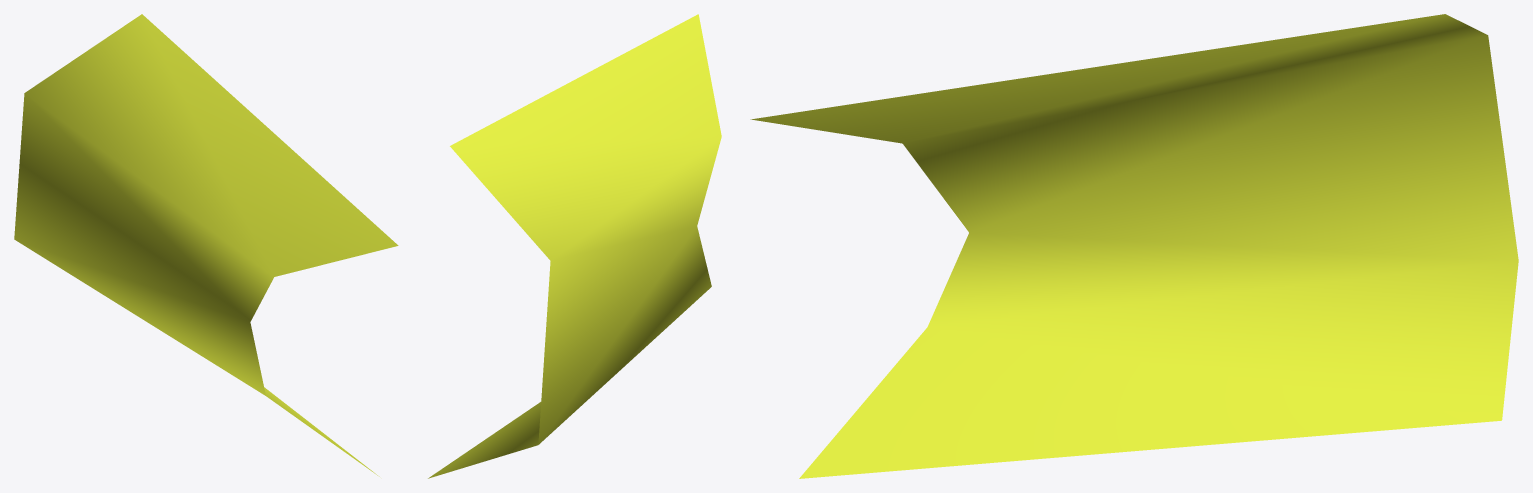
The model's file is b_polySurface738_b_BMW_i8Elite_2_725.glb.
The picture shows the model from 3 angles, left to right: view 1: azimuth 30°, elevation 25°; view 2: azimuth 150°, elevation 25°; view 3: azimuth 270°, elevation 25°; orthographic projection. The views are drawn at different scales.
Parts seen in each view (by area): view 1: b:polySurface738_b:BMW_i8Elite_2017CalliperGloss_Material1_0; view 2: b:polySurface738_b:BMW_i8Elite_2017CalliperGloss_Material1_0; view 3: b:polySurface738_b:BMW_i8Elite_2017CalliperGloss_Material1_0.
Boxes of the visible parts, box(x1,y1,x2,y2) form: b:polySurface738_b:BMW_i8Elite_2017CalliperGloss_Material1_0: box(14, 14, 398, 476); b:polySurface738_b:BMW_i8Elite_2017CalliperGloss_Material1_0: box(428, 14, 721, 478); b:polySurface738_b:BMW_i8Elite_2017CalliperGloss_Material1_0: box(750, 14, 1518, 478).
Bounding box in the file's own units: 0.00786 × 0.0189 × 0.0292.
